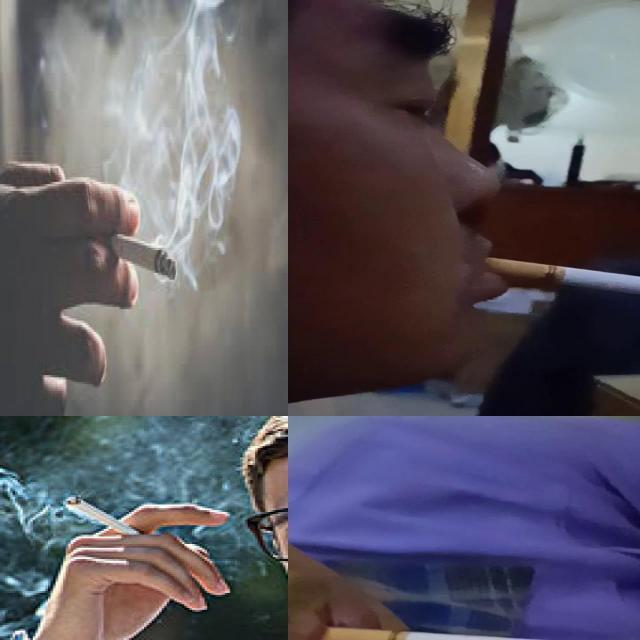cigarette: (482, 256, 640, 310), (320, 626, 634, 640), (92, 231, 178, 281), (60, 493, 142, 535)
